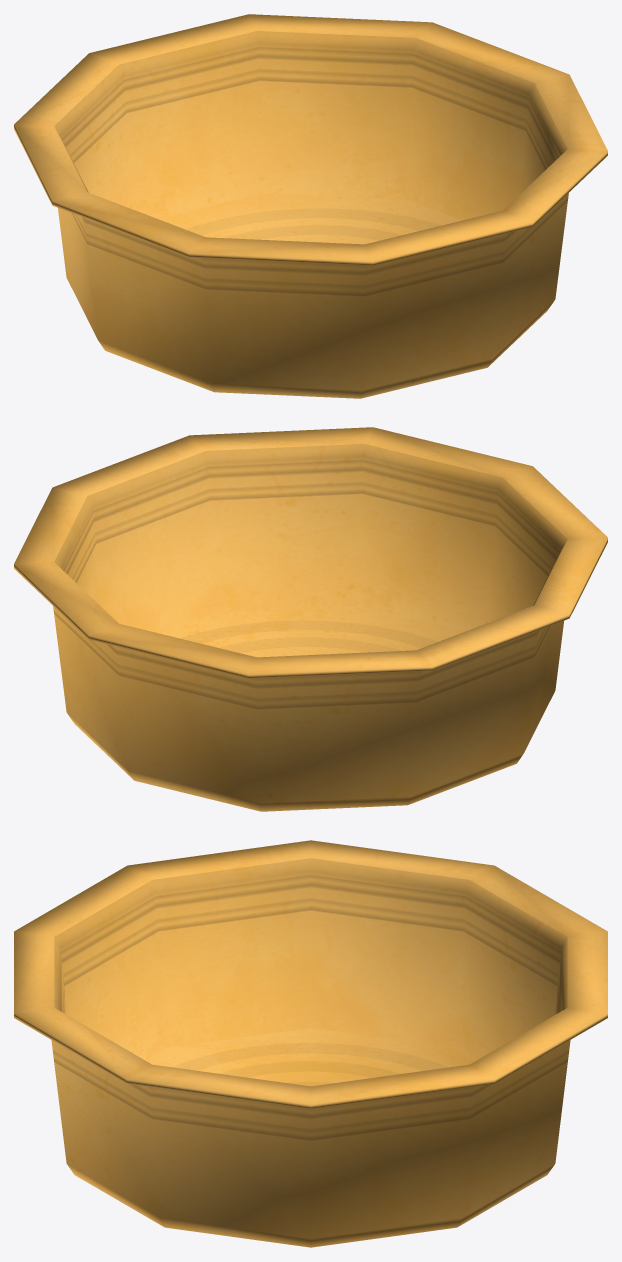
Rendered from GoldTub.fbx.
The picture shows the model from 3 angles, top to bottom: view 1: azimuth 30°, elevation 25°; view 2: azimuth 150°, elevation 25°; view 3: azimuth 270°, elevation 25°; orthographic projection. The views are drawn at different scales.
Parts seen in each view (by area): view 1: Empty_Mesh; view 2: Empty_Mesh; view 3: Empty_Mesh.
Part boxes in pixels (<box>): Empty_Mesh: <box>14,14,607,398</box>; Empty_Mesh: <box>14,427,607,811</box>; Empty_Mesh: <box>14,840,607,1247</box>.
Bounding box in the file's own units: 1.13 × 0.34 × 1.07.
